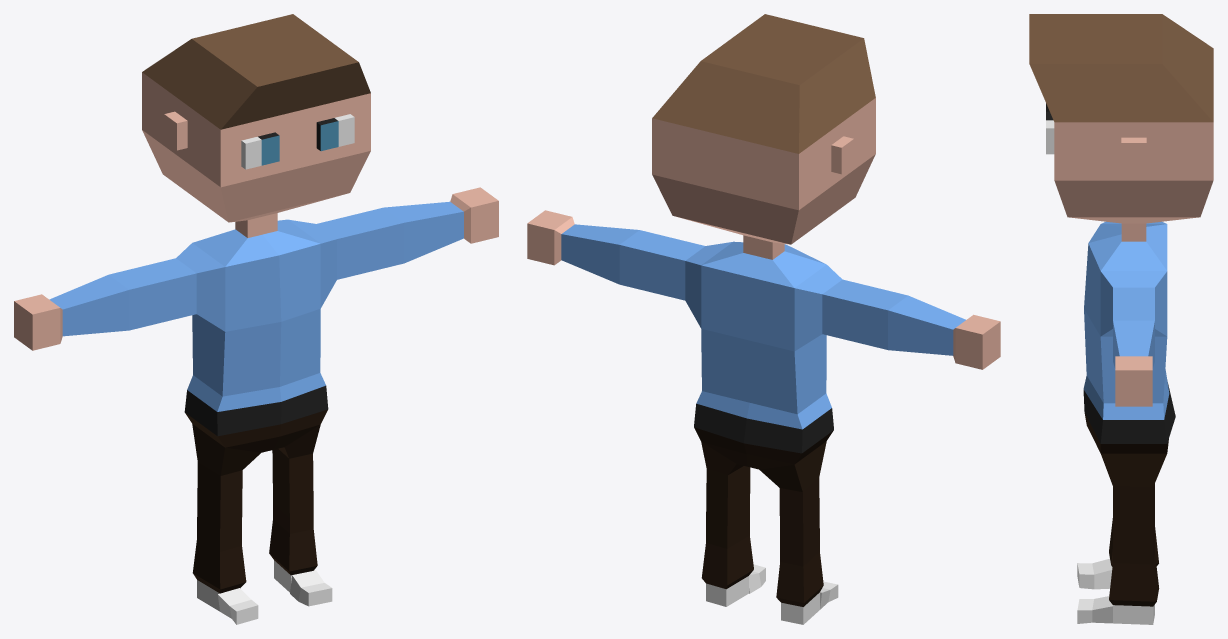
Rendered from pedestrianBrowneBlue.gltf.
3 views of the same model, side by side, from view 1: azimuth 30°, elevation 25°; view 2: azimuth 150°, elevation 25°; view 3: azimuth 270°, elevation 25° (orthographic). The views are drawn at different scales.
Parts seen in each view (by area): view 1: pedestrian browne blue eyes.001; view 2: pedestrian browne blue eyes.001; view 3: pedestrian browne blue eyes.001.
Boxes of the visible parts, left/top/right/bottom form: pedestrian browne blue eyes.001: left=14, top=14, right=498, bottom=624; pedestrian browne blue eyes.001: left=527, top=14, right=1000, bottom=624; pedestrian browne blue eyes.001: left=1029, top=14, right=1213, bottom=624.
Bounding box in the file's own units: 1.29 × 1.47 × 0.437.
Materials: 1 (1 with a texture image).
